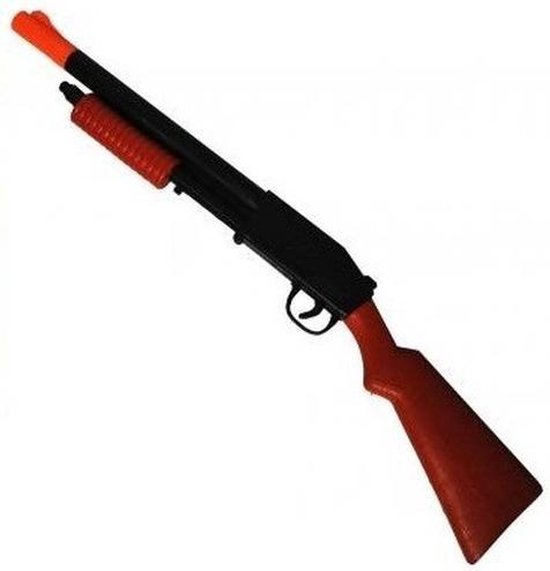Arma Falsa: (6, 5, 550, 564)
